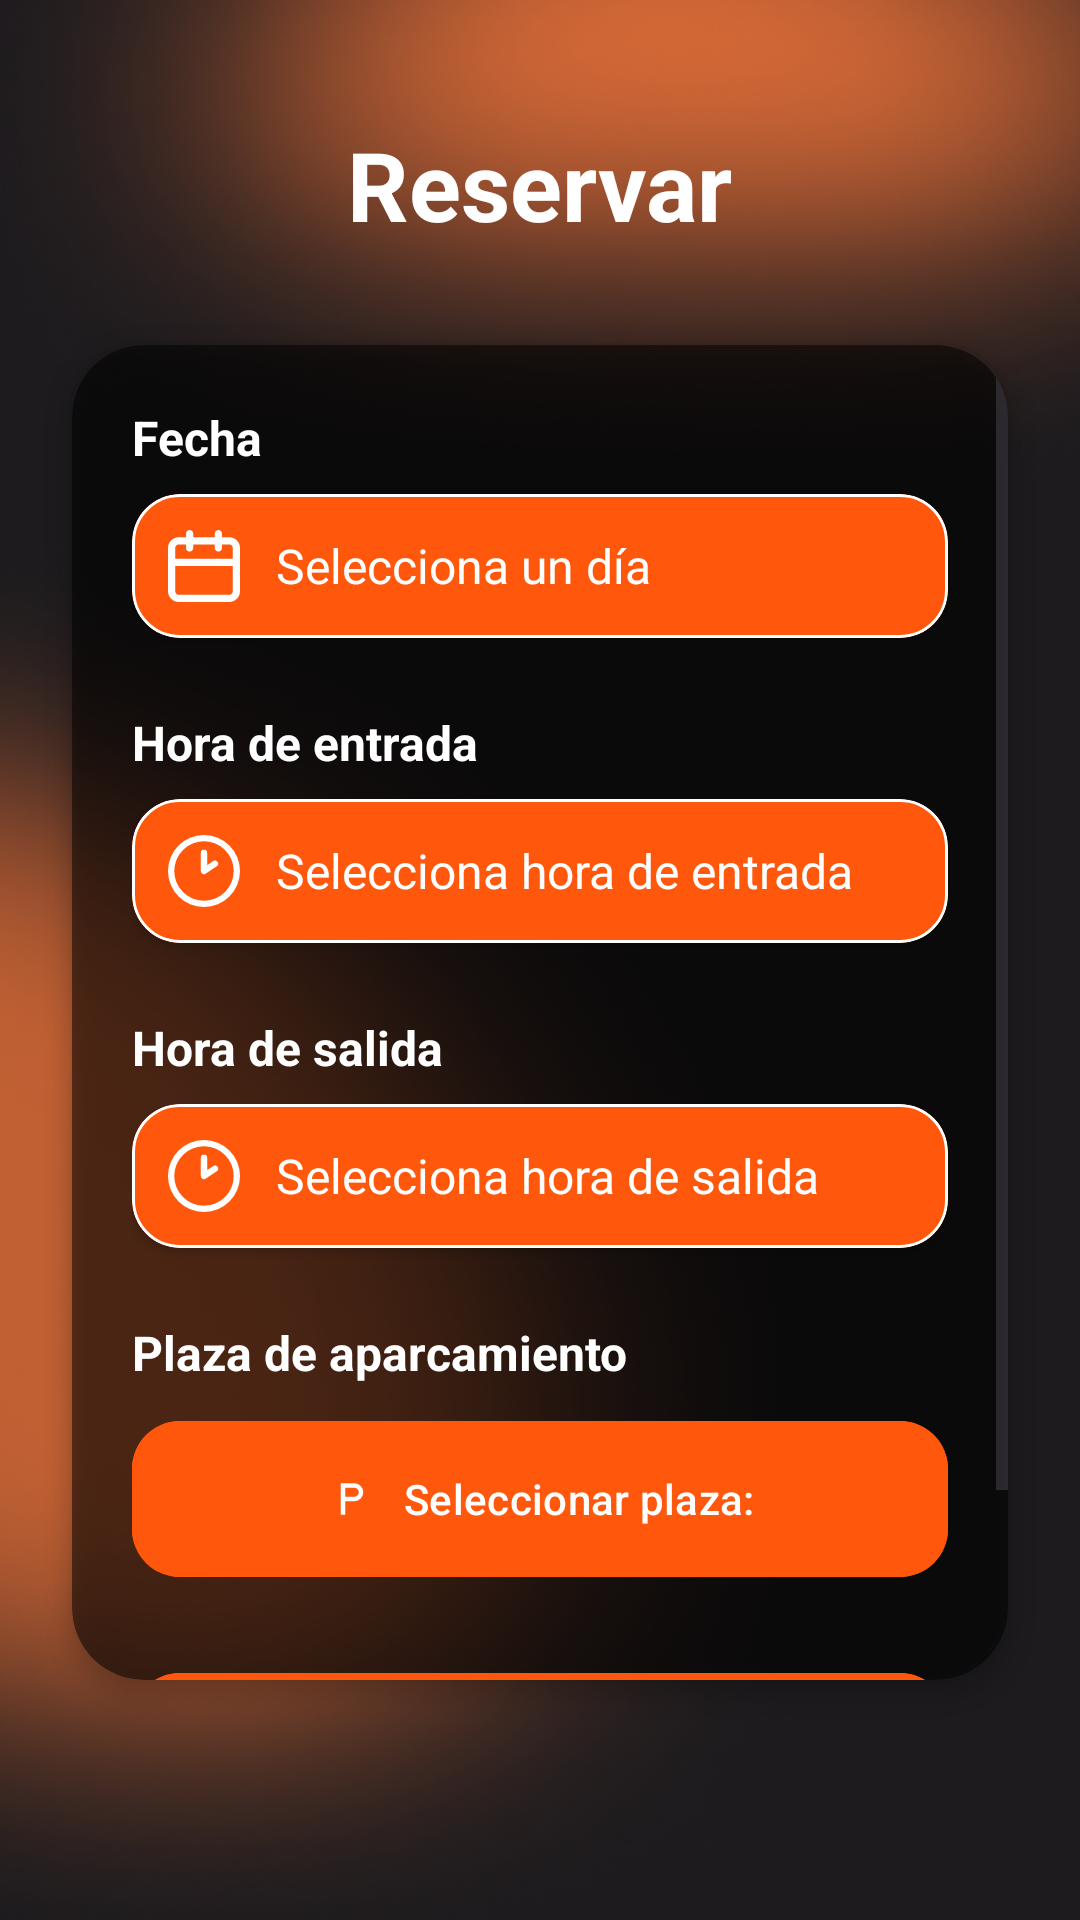

Icons on this 1080w x 1920h Android screen, each with the point to tap as point (x, y):
selectdia: point (204, 566)
selecthora: point (204, 871), point (204, 1176)
